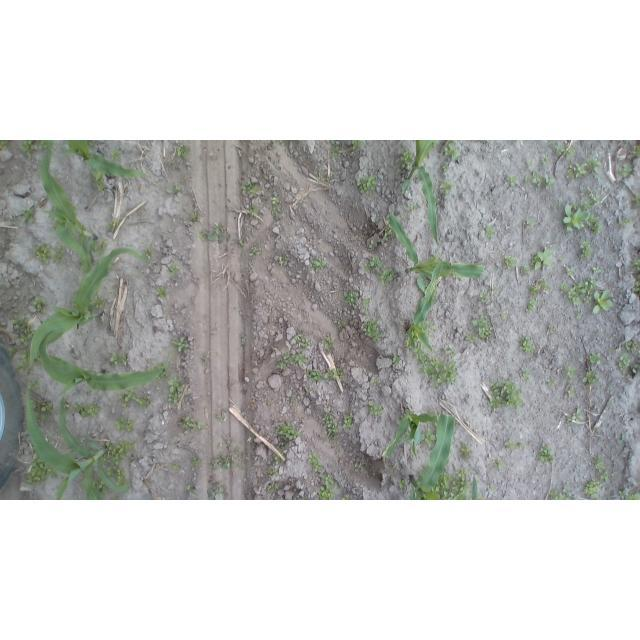Maize: (30, 247, 152, 370), (26, 384, 126, 500), (39, 336, 170, 400), (43, 140, 97, 270), (387, 213, 485, 283), (401, 140, 439, 244), (58, 140, 150, 180), (405, 259, 444, 350), (382, 413, 437, 461), (406, 472, 425, 500), (472, 473, 481, 500)
Weeds: (560, 279, 604, 310), (104, 440, 137, 476), (488, 380, 525, 410), (421, 358, 457, 386), (444, 468, 471, 501), (24, 457, 53, 485), (213, 447, 246, 471), (560, 204, 588, 232), (271, 421, 305, 444), (530, 243, 556, 272), (198, 223, 226, 246), (120, 389, 151, 409), (14, 317, 33, 348), (592, 287, 614, 313), (549, 141, 578, 160), (322, 413, 342, 440), (471, 315, 494, 338), (580, 184, 601, 209), (590, 454, 608, 483), (165, 376, 183, 405), (72, 402, 102, 419), (32, 397, 52, 421), (357, 175, 382, 194), (525, 173, 556, 188), (31, 241, 51, 263), (178, 417, 208, 431), (306, 452, 327, 472), (440, 140, 460, 161), (529, 277, 552, 295), (535, 443, 553, 466), (376, 267, 398, 285), (115, 415, 136, 433), (583, 478, 601, 499), (242, 178, 260, 198), (363, 321, 381, 340), (565, 409, 584, 427), (206, 484, 226, 501), (33, 297, 50, 316), (17, 141, 36, 158), (398, 151, 414, 171), (403, 202, 419, 221), (92, 170, 107, 190), (109, 351, 129, 366), (15, 351, 30, 371), (548, 489, 575, 500), (370, 401, 387, 418), (294, 333, 312, 349), (581, 370, 599, 386), (362, 256, 381, 271), (567, 164, 586, 179), (292, 350, 308, 367), (311, 255, 326, 273), (276, 351, 291, 369), (423, 428, 438, 446), (580, 241, 595, 259), (22, 208, 40, 223), (589, 212, 602, 232), (412, 347, 428, 363), (116, 470, 131, 487), (586, 156, 601, 173), (323, 369, 344, 381), (620, 354, 632, 375), (617, 160, 631, 178), (315, 487, 334, 500), (53, 245, 65, 265), (585, 353, 605, 365), (564, 360, 576, 380), (167, 183, 184, 197), (342, 414, 356, 431), (521, 336, 535, 353), (94, 240, 108, 257), (437, 474, 450, 492), (620, 489, 640, 500), (439, 179, 453, 194), (320, 334, 334, 349), (459, 439, 472, 455), (172, 339, 188, 352), (422, 320, 434, 337), (626, 340, 640, 354), (26, 379, 41, 392), (307, 368, 322, 381), (177, 145, 192, 158), (628, 193, 640, 209), (330, 143, 343, 157), (527, 299, 539, 314), (349, 141, 365, 152), (385, 220, 394, 239), (250, 204, 263, 217), (479, 292, 492, 305), (632, 274, 640, 295), (506, 174, 518, 188), (344, 290, 356, 304), (156, 286, 168, 299), (106, 220, 119, 232), (628, 258, 640, 271), (503, 256, 516, 268), (487, 285, 501, 296), (266, 481, 281, 491), (250, 245, 262, 257), (322, 473, 334, 485), (443, 347, 455, 359), (631, 143, 639, 161), (564, 265, 577, 276), (95, 297, 106, 310), (485, 222, 494, 237), (109, 149, 121, 160), (169, 263, 180, 275), (552, 201, 564, 212), (518, 368, 530, 379), (519, 265, 531, 276), (190, 212, 200, 225), (272, 454, 282, 467), (504, 439, 517, 449), (1, 141, 12, 152), (620, 218, 632, 228), (361, 297, 373, 307), (568, 387, 577, 400), (398, 480, 408, 491), (524, 220, 535, 230), (191, 456, 202, 466), (38, 140, 49, 150), (271, 207, 281, 217), (267, 466, 277, 476), (548, 376, 557, 387), (547, 325, 556, 336), (525, 160, 536, 169), (96, 483, 108, 491), (337, 320, 345, 332), (240, 334, 247, 347), (238, 238, 247, 248), (465, 334, 475, 343), (146, 246, 155, 256), (278, 255, 286, 266), (618, 435, 626, 446), (186, 485, 196, 493), (289, 393, 299, 401), (442, 165, 452, 173), (542, 156, 550, 165), (6, 348, 14, 357), (376, 216, 383, 226), (271, 197, 278, 207), (495, 461, 505, 468), (392, 355, 402, 362), (200, 356, 208, 364), (430, 409, 439, 416), (372, 378, 381, 385), (476, 493, 484, 500), (317, 172, 324, 180), (172, 462, 179, 470), (609, 345, 616, 353), (593, 266, 600, 274), (278, 443, 287, 449), (360, 312, 369, 318), (369, 240, 374, 250), (611, 471, 618, 478), (487, 483, 494, 490), (341, 494, 349, 499), (246, 437, 252, 443), (518, 442, 525, 447), (501, 312, 507, 317), (217, 443, 223, 448), (481, 141, 491, 144), (113, 495, 120, 499), (559, 257, 564, 262), (577, 314, 581, 318), (632, 370, 637, 372)
